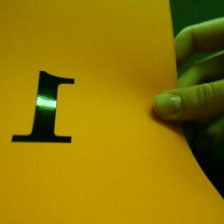orange1: (9, 63, 80, 150)
